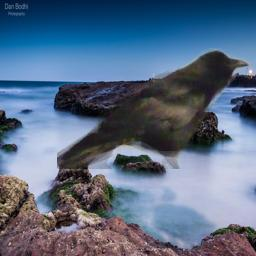Crow: (57, 48, 251, 169)
